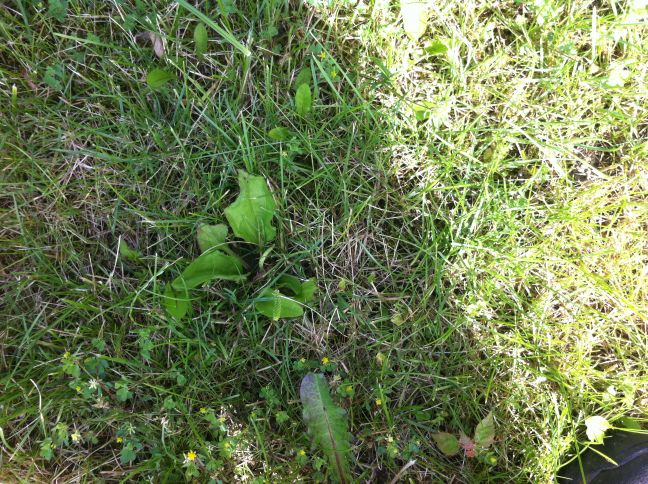weed1: (175, 168, 317, 324)
